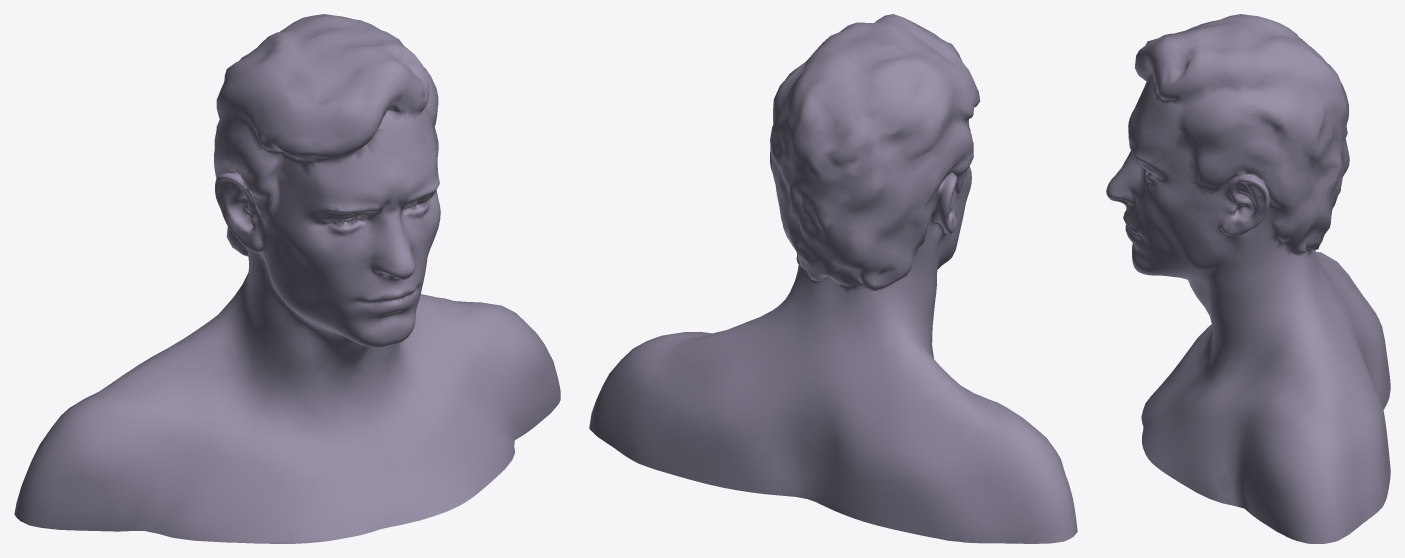
Rendered from 石膏头像_男中青年_20260324184331_opt.glb.
The picture shows the model from 3 angles, left to right: view 1: azimuth 30°, elevation 25°; view 2: azimuth 150°, elevation 25°; view 3: azimuth 270°, elevation 25°; orthographic projection. The views are drawn at different scales.
Parts seen in each view (by area): view 1: LowPo001; view 2: LowPo001; view 3: LowPo001.
Boxes of the visible parts, box(x1,y1,x2,y2) form: LowPo001: box(14, 14, 560, 543); LowPo001: box(589, 14, 1077, 543); LowPo001: box(1106, 14, 1390, 543).
Size of the model in its own units: 0.4925 by 0.4 by 0.2578.
